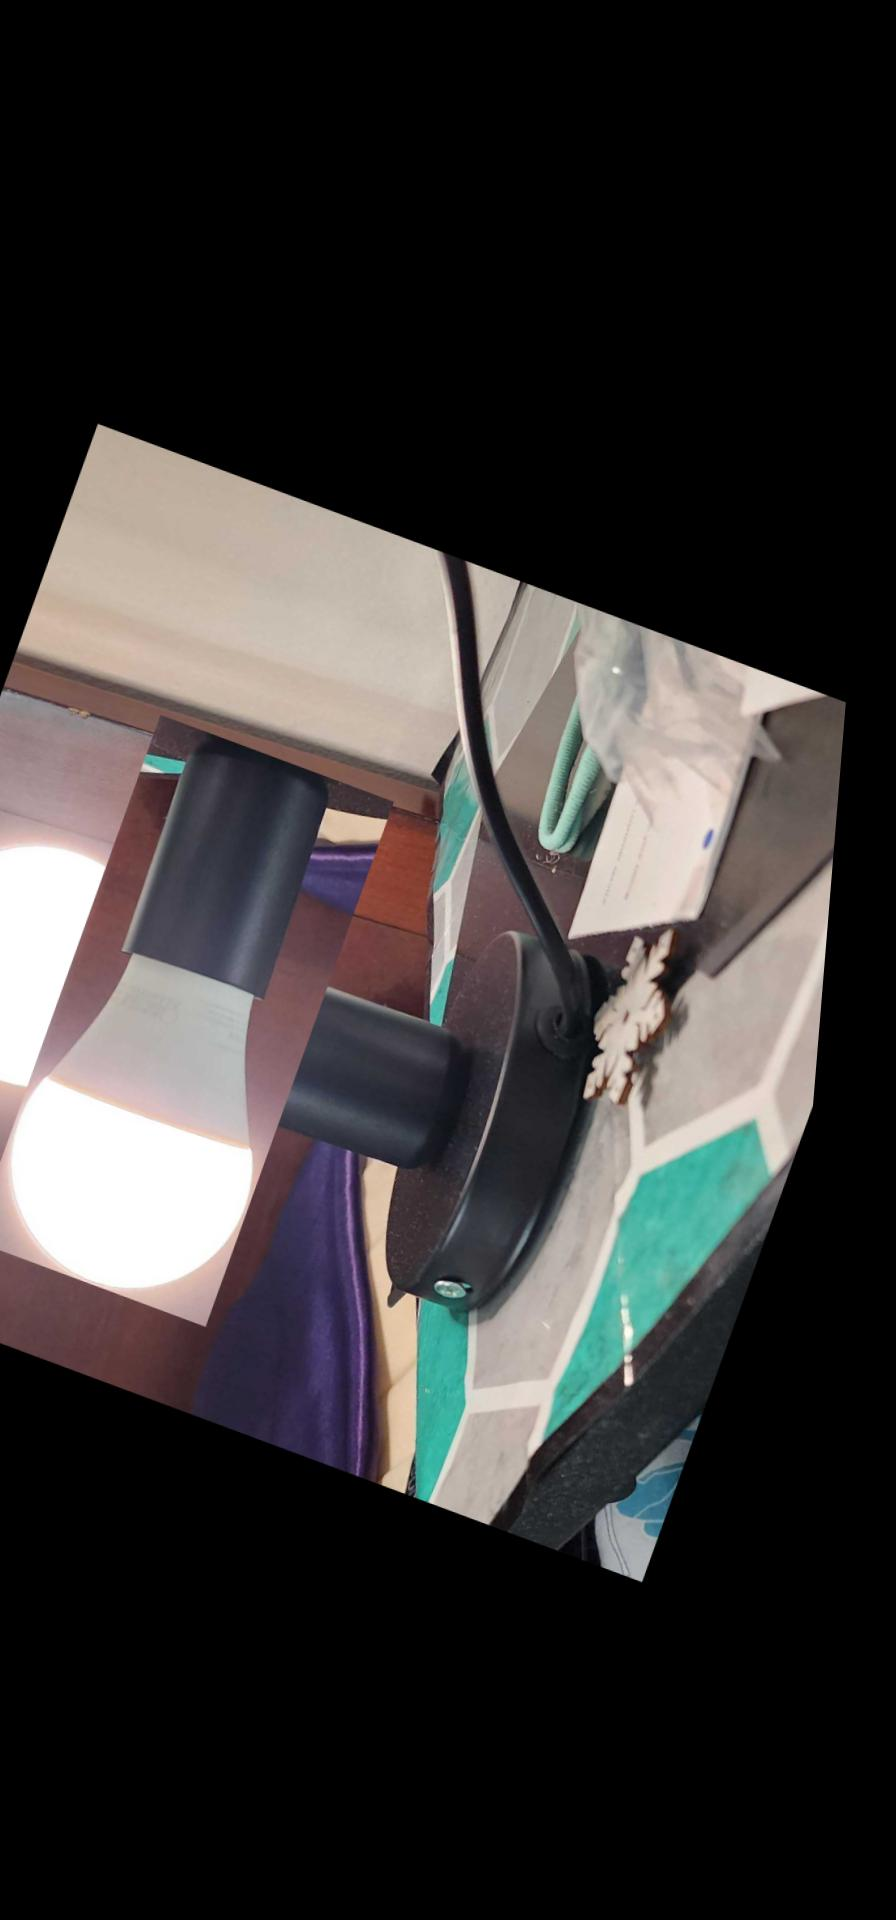TubeLight: (0, 748, 463, 1281)
